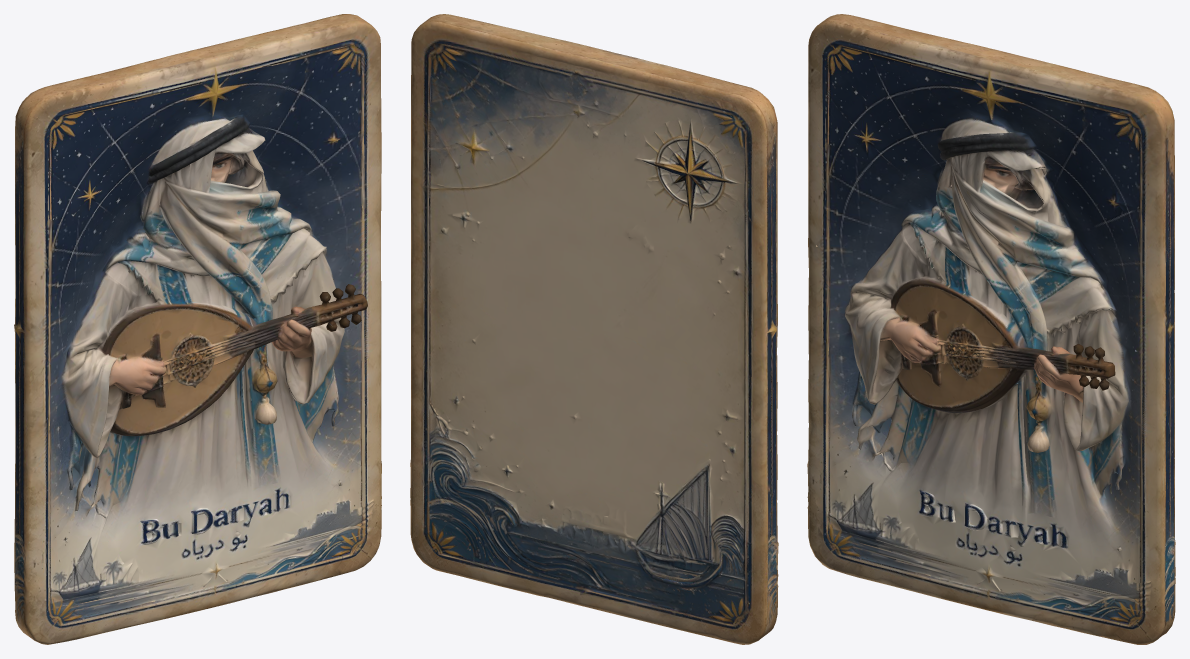
File: bu_daryah_card.fbx
3 views of the same model, side by side, from view 1: azimuth 30°, elevation 25°; view 2: azimuth 150°, elevation 25°; view 3: azimuth 330°, elevation 25° (orthographic).
Visible parts, largest first — view 1: bu_daryah_card; view 2: bu_daryah_card; view 3: bu_daryah_card.
Boxes of the visible parts, x1,y1,x2,y2 form: bu_daryah_card: (14,14,381,644); bu_daryah_card: (410,14,778,644); bu_daryah_card: (807,14,1175,644).
Bounding box in the file's own units: 67.48 × 97.97 × 11.87.
Materials: 1 (1 with a texture image).
